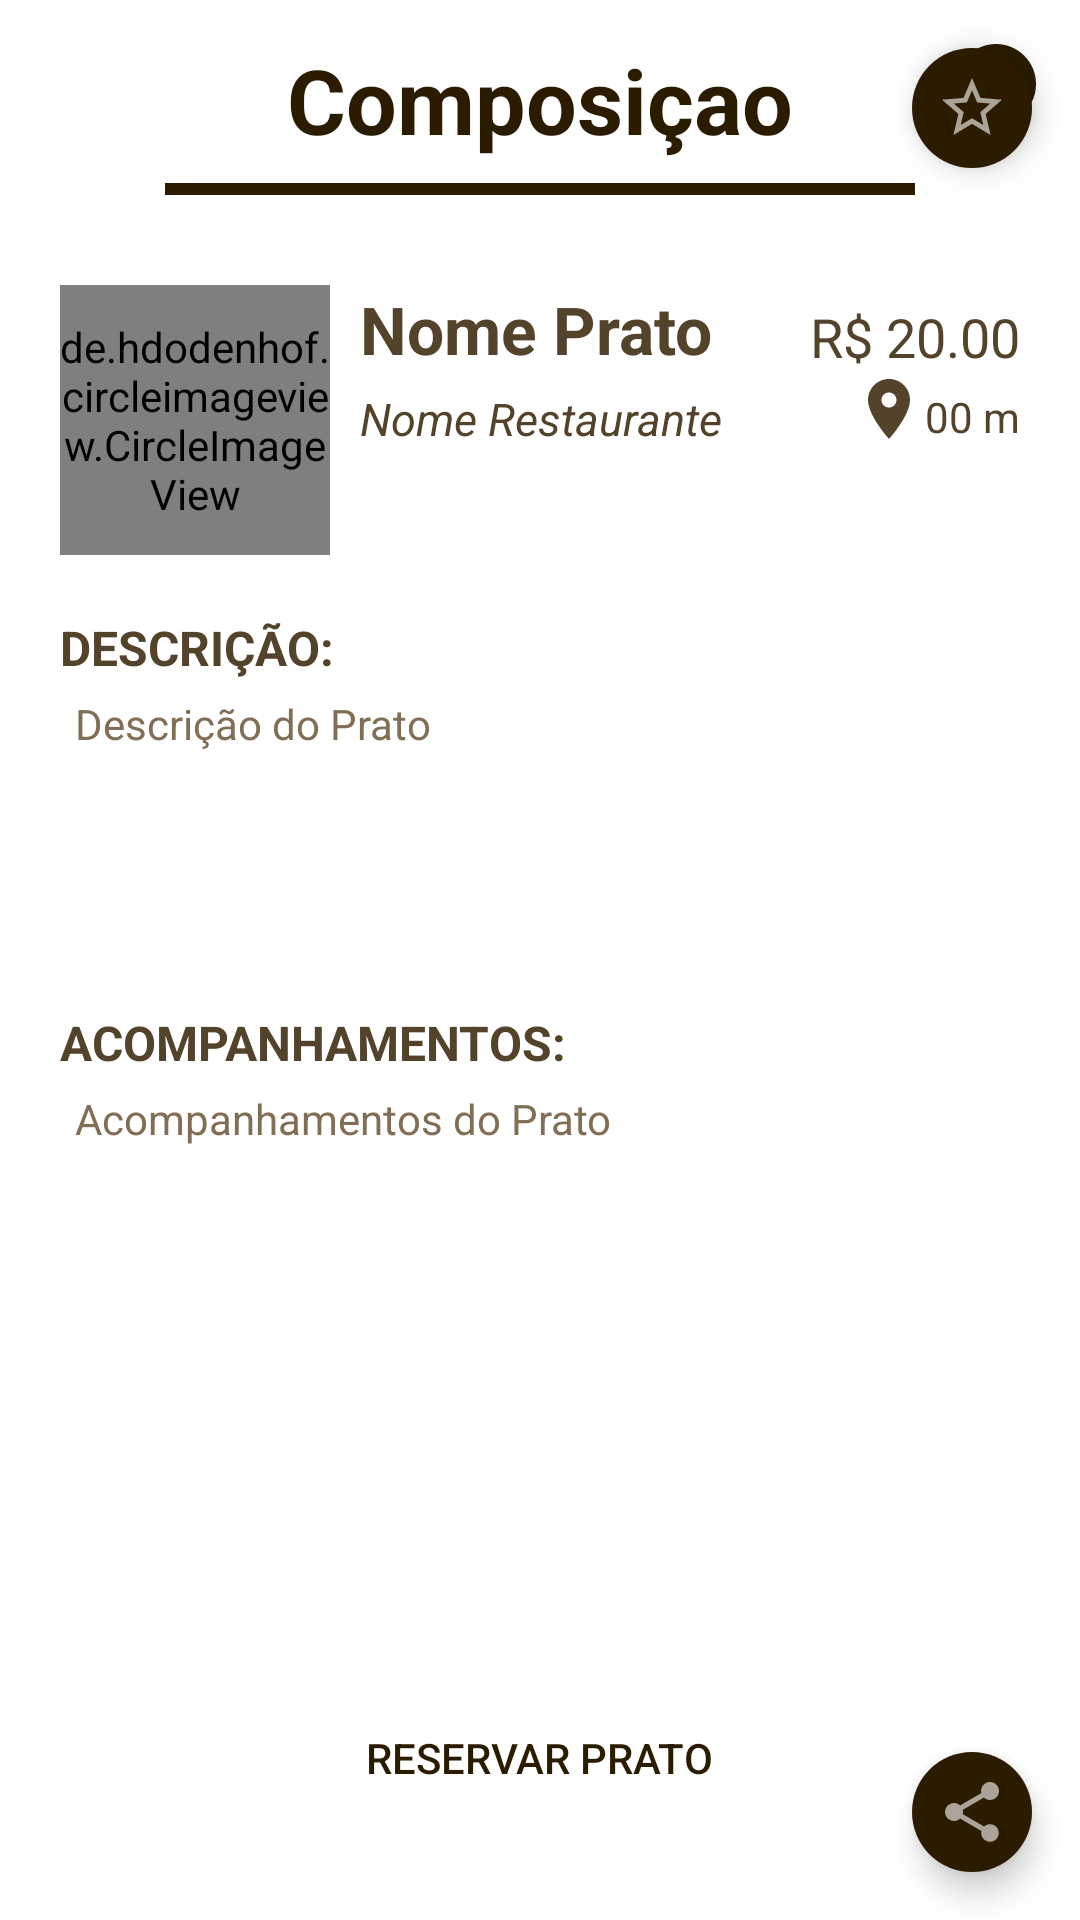

Icon bounding boxes for this 1080px×1920px phone screenshot, format box=[x1, y1, x2, y2]:
location: box=[868, 379, 910, 439]
share: box=[912, 1752, 1032, 1872]
star off: box=[912, 48, 1032, 168]
